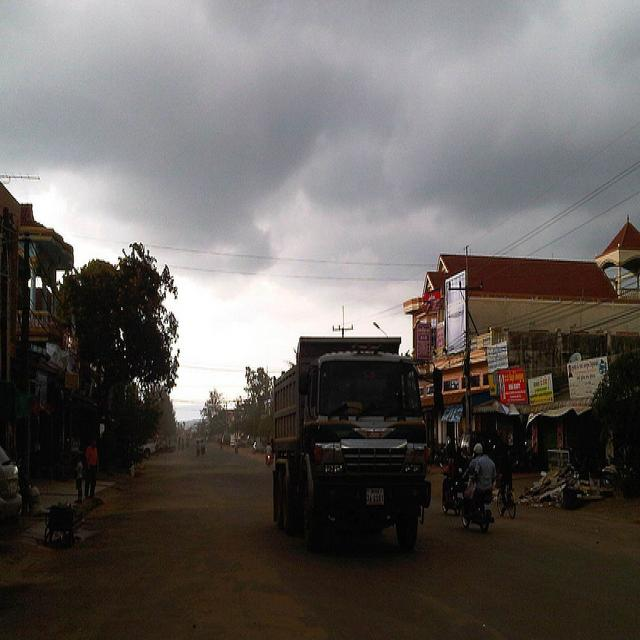motor: (439, 461, 465, 515), (461, 495, 496, 532)
